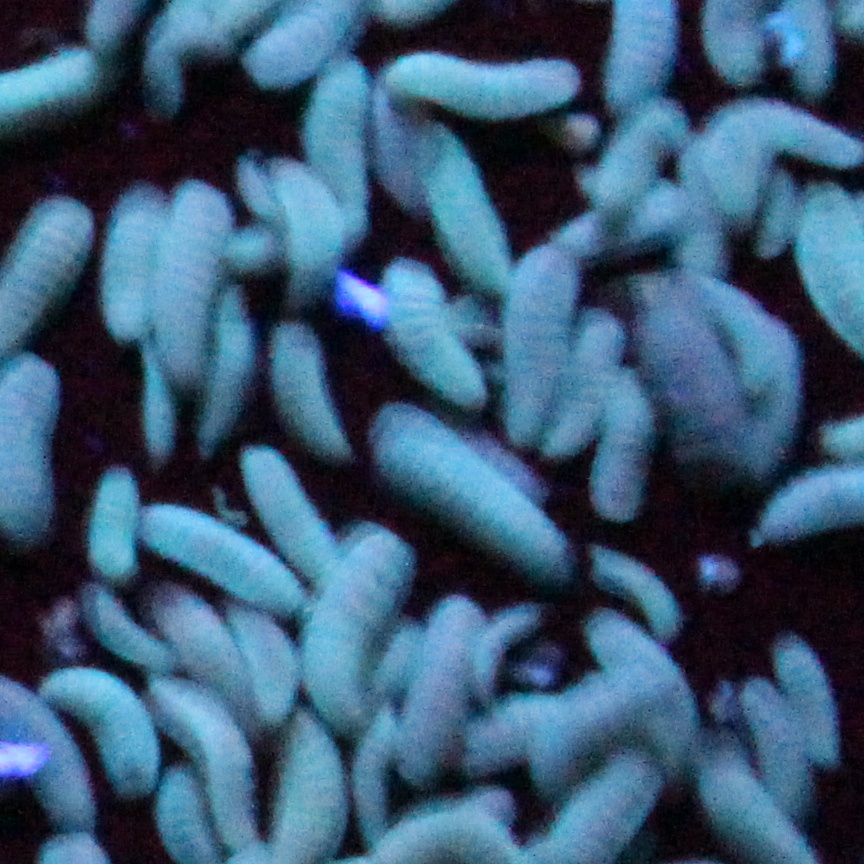larve: (356, 387, 578, 576), (626, 266, 761, 474), (390, 584, 495, 780), (374, 239, 491, 412), (134, 502, 311, 616), (382, 33, 587, 129), (45, 660, 169, 798), (154, 681, 259, 837), (157, 172, 233, 377), (760, 621, 852, 769), (266, 313, 352, 467), (235, 450, 335, 580), (98, 171, 168, 347), (147, 581, 243, 701), (584, 544, 697, 645), (76, 451, 144, 589), (74, 585, 171, 672)
